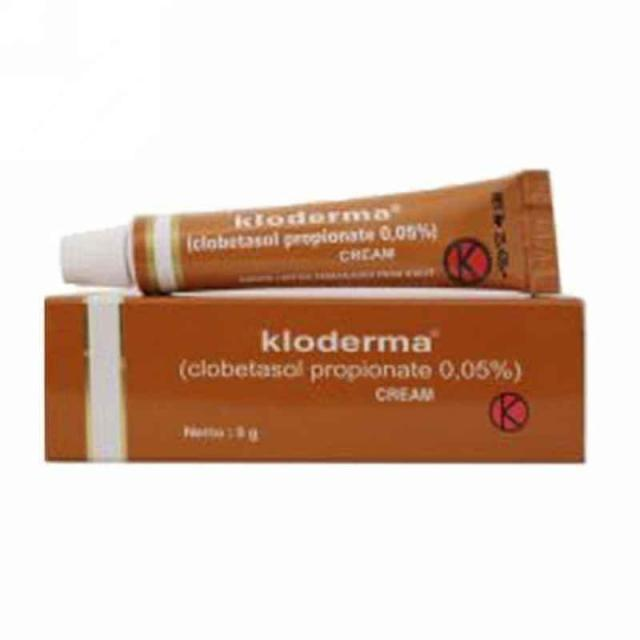drug-name: (259, 325, 438, 355)
